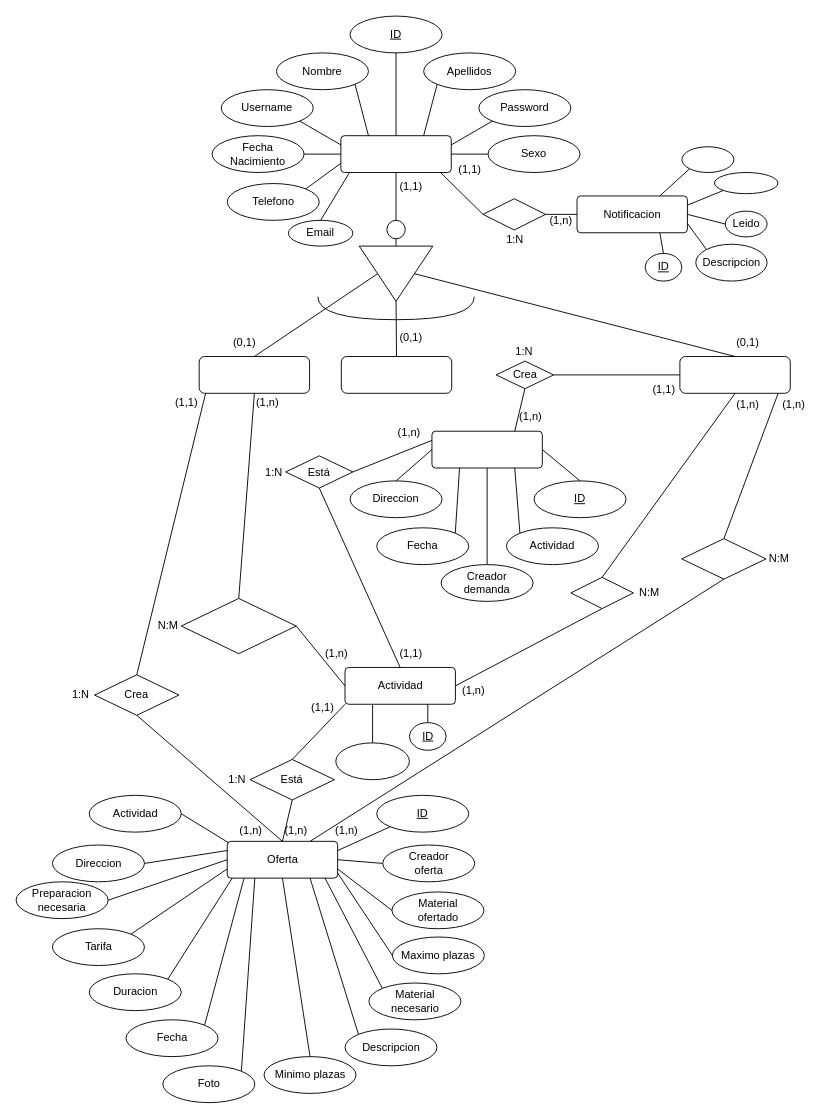
Some shapes in this 832 by 1119 pixel diagram are drawn without their labels. The centre of each missing label's shape, as x and y in pixels:
Admin: (396,374)
Consumidor: (734,374)
Demanda: (486,449)
Es: (395,308)
Está cualidifcado: (238,626)
ID emisor: (707,159)
ID receptor: (746,183)
Nombre actividad: (372,761)
Ofertante: (254,374)
Prefiere: (601,592)
Se apunta: (723,558)
Tiene: (514,214)
Usuario: (395,153)
